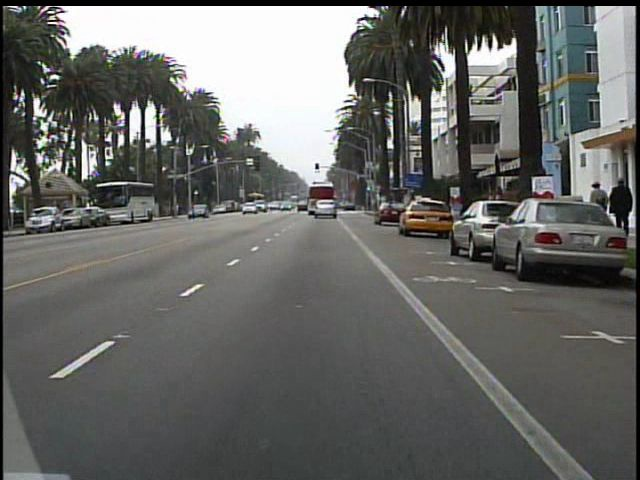person: (606, 174, 633, 241), (584, 177, 608, 241)
